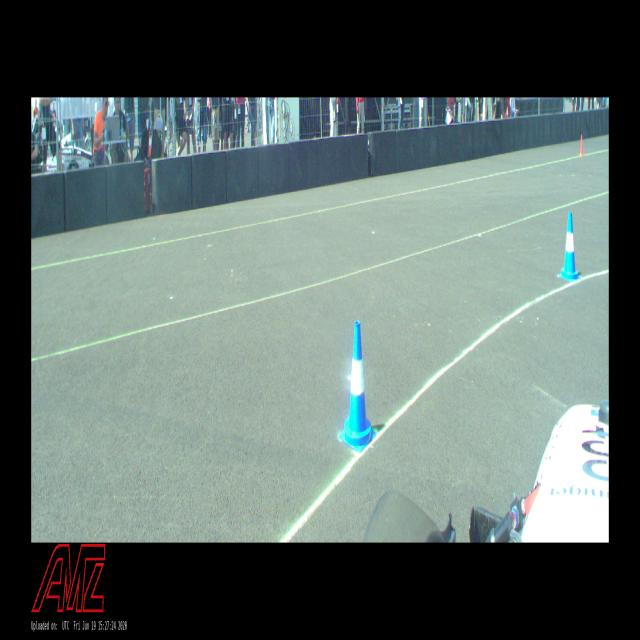blue_cone: (339, 321, 376, 454), (558, 213, 581, 282)
unknown_cone: (578, 134, 584, 156)
